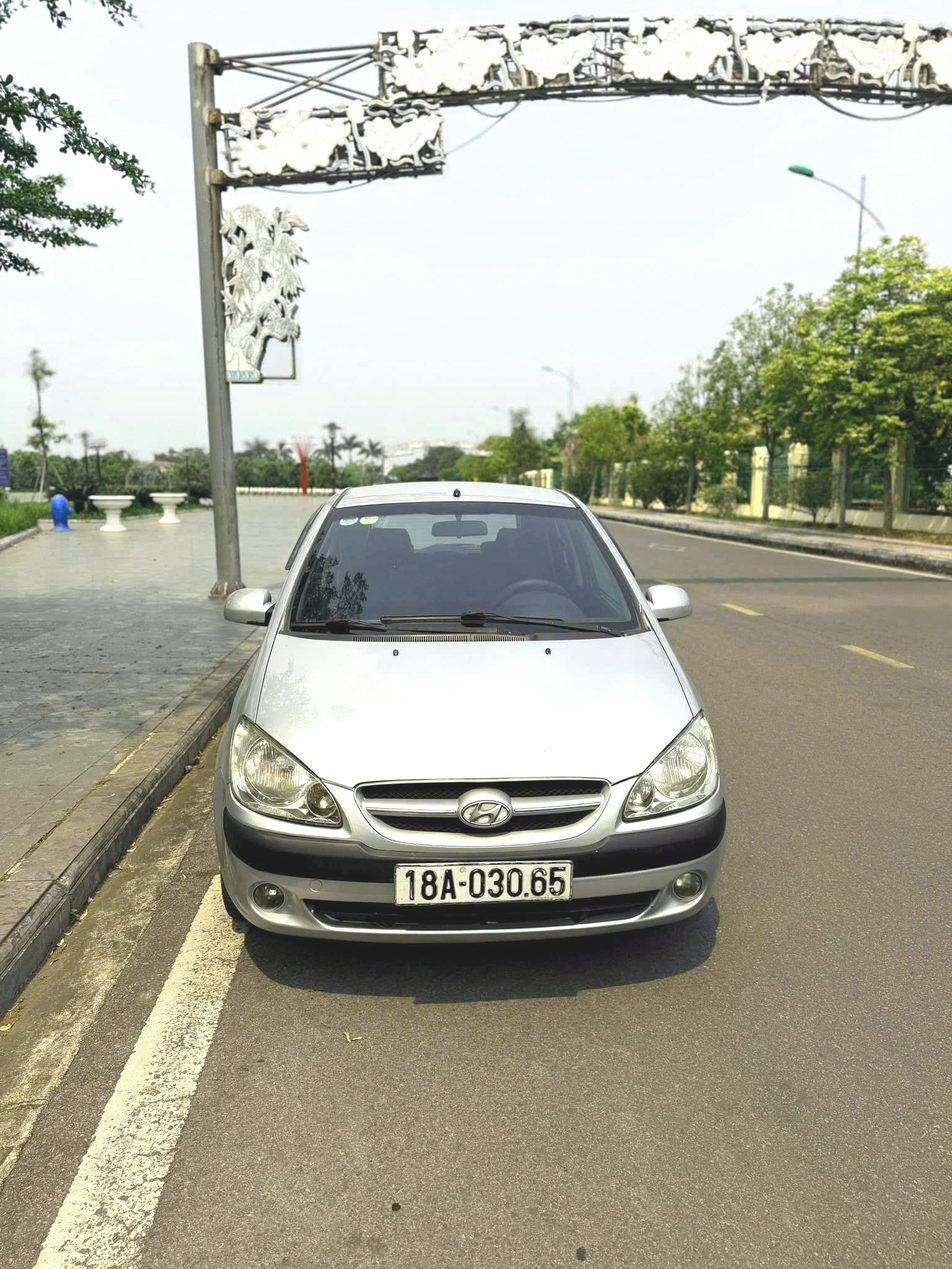Bien-so: (412, 888, 582, 947)
